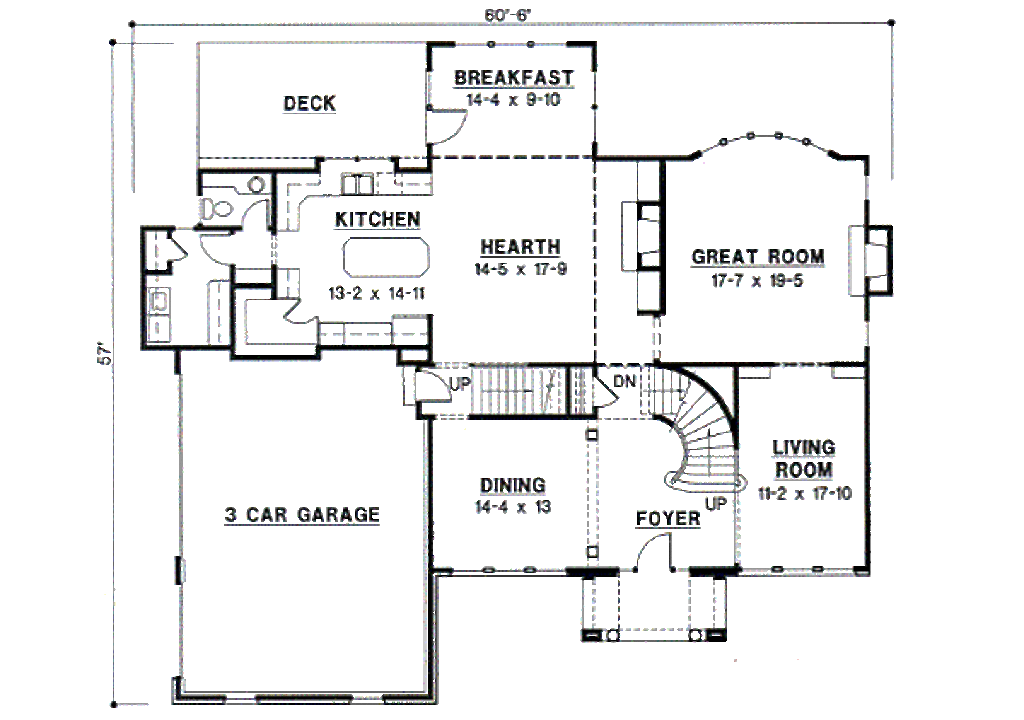door: (412, 365, 457, 409), (191, 229, 235, 270), (634, 534, 675, 576), (428, 106, 467, 147), (234, 198, 273, 231), (278, 298, 315, 328)
kitchen_bar: (330, 229, 428, 283)
large_sink: (199, 193, 231, 223)
stairs: (635, 367, 748, 512), (464, 361, 596, 419)
